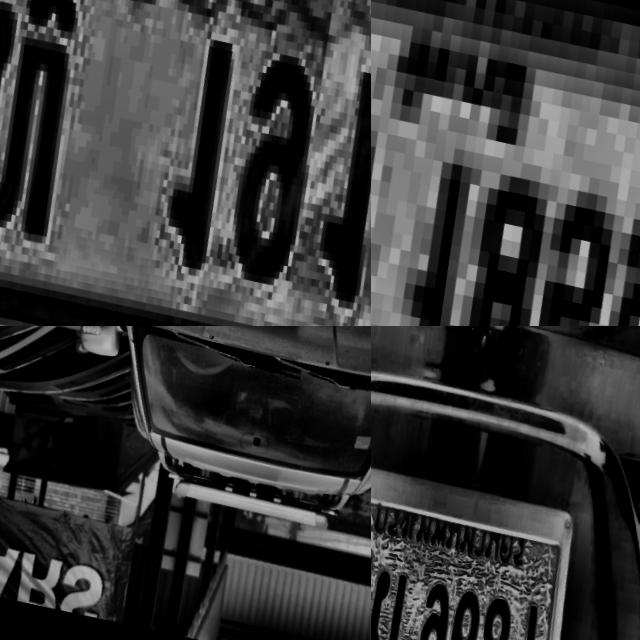license-plate: (0, 0, 371, 326), (371, 0, 640, 326), (371, 447, 599, 640)
